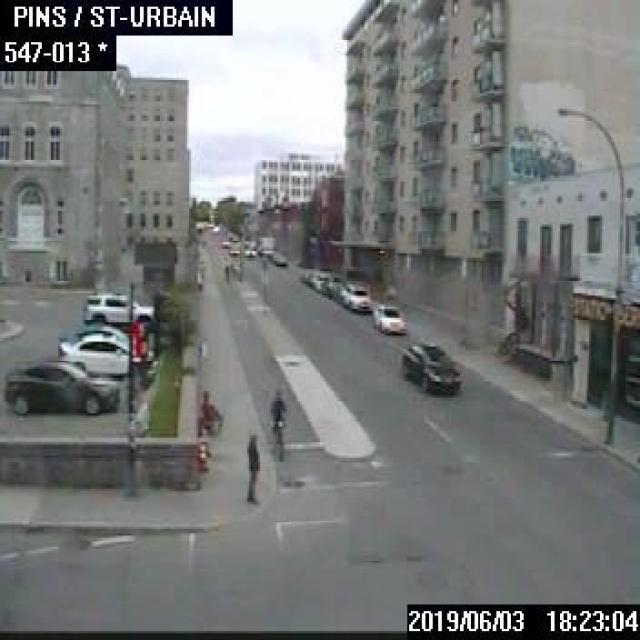cyclist: (268, 389, 286, 461), (222, 261, 229, 281)
pedestrian: (243, 429, 261, 504), (200, 389, 222, 435)
vehicle: (5, 357, 119, 413), (57, 332, 151, 376), (398, 340, 461, 396), (82, 290, 153, 327), (58, 323, 128, 346), (371, 302, 406, 332), (339, 282, 370, 310), (320, 274, 346, 296), (258, 234, 276, 256), (310, 270, 330, 289), (299, 266, 317, 281), (242, 239, 256, 255), (272, 251, 286, 264), (228, 243, 240, 254)
